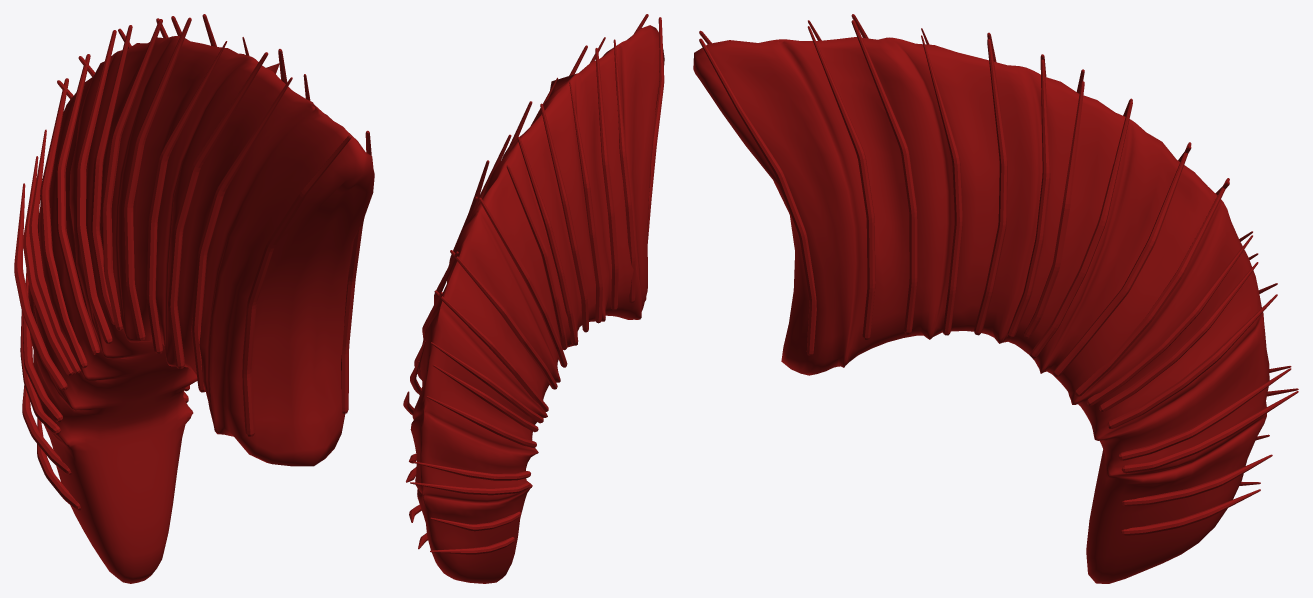
The model's file is Red_Hair.fbx.
3 renders of one model, left to right at view 1: azimuth 30°, elevation 25°; view 2: azimuth 150°, elevation 25°; view 3: azimuth 270°, elevation 25°, orthographic. The views are drawn at different scales.
Visible parts, largest first — view 1: Red_Hair_Melee; view 2: Red_Hair_Melee; view 3: Red_Hair_Melee.
Part boxes in pixels (box(x1,y1,x2,y2)): Red_Hair_Melee: box(14, 14, 374, 583); Red_Hair_Melee: box(403, 14, 664, 583); Red_Hair_Melee: box(693, 14, 1298, 583).
Bounding box in the file's own units: 32.63 × 139 × 135.
